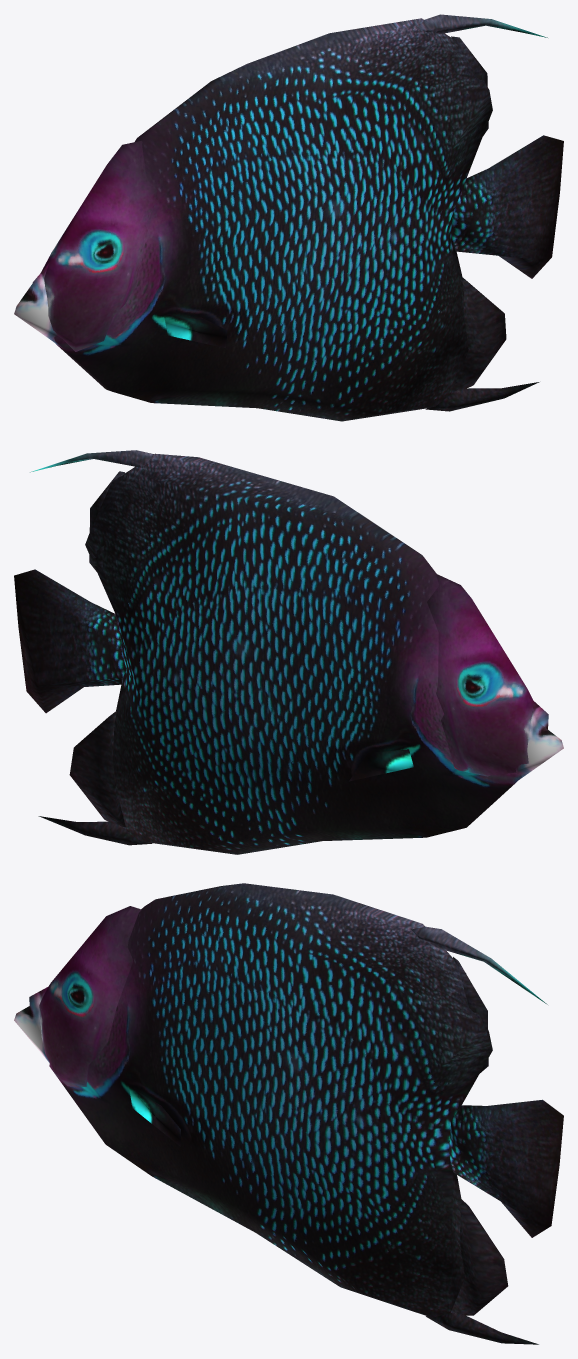
The model's file is Fish1.obj.
3 renders of one model, top to bottom at view 1: azimuth 30°, elevation 25°; view 2: azimuth 150°, elevation 25°; view 3: azimuth 330°, elevation 25°, orthographic.
Parts seen in each view (by area): view 1: model_Untitled; view 2: model_Untitled; view 3: model_Untitled.
Boxes of the visible parts, x1,y1,x2,y2 form: model_Untitled: (14,14,563,421); model_Untitled: (14,450,563,854); model_Untitled: (14,883,563,1344).
Bounding box in the file's own units: 9.4 × 6.62 × 1.36.
Materials: 1 (1 with a texture image).
